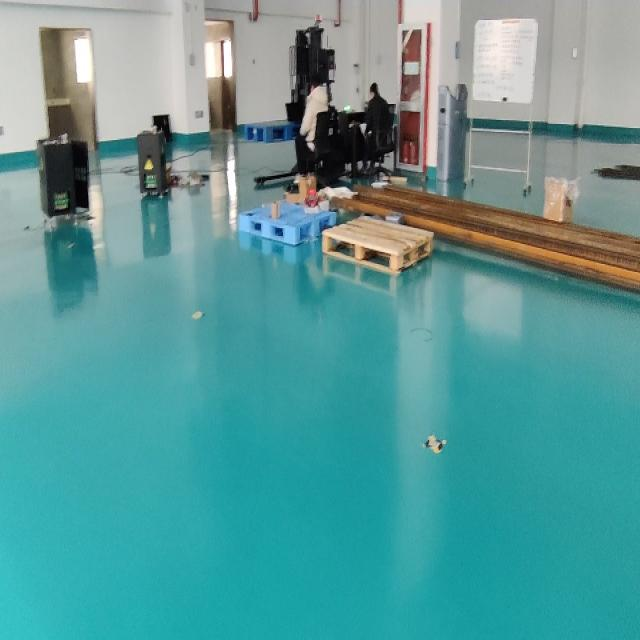euro: (323, 216, 433, 272)
